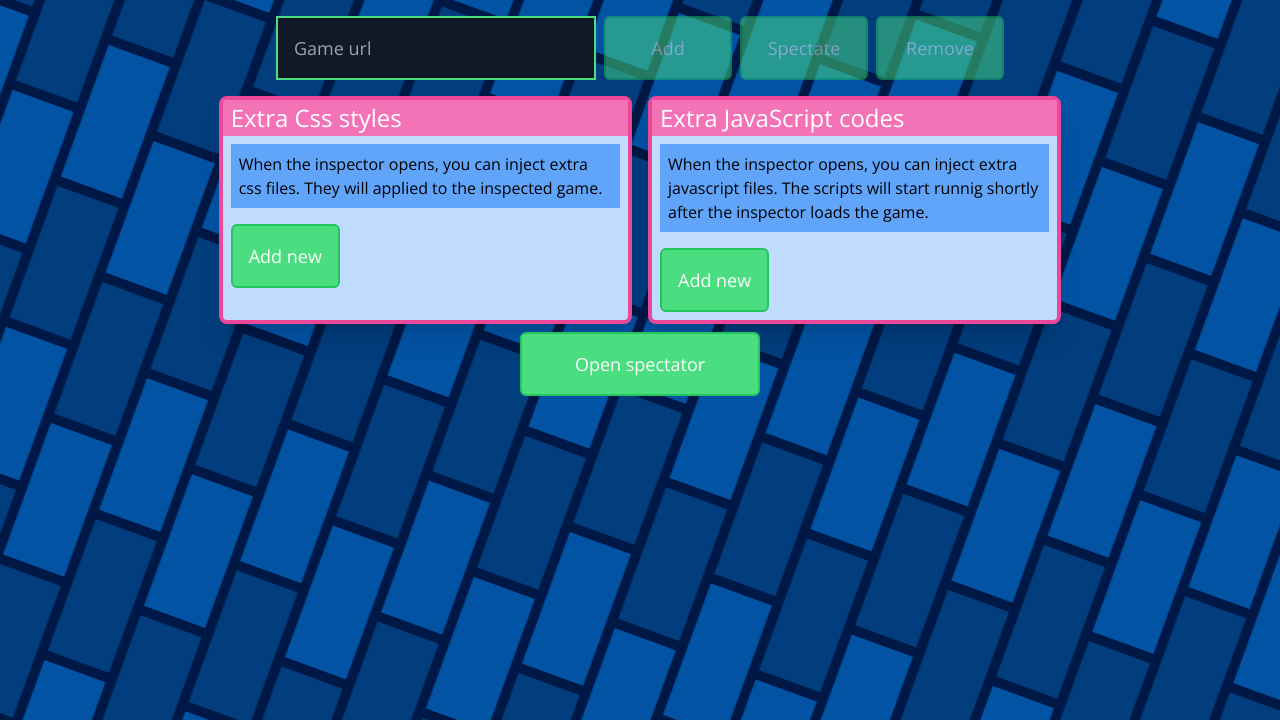
Test: Controls test › type url
The image size is (1280, 720).
Type "test" into the field with placeholder "Game url".
click(436, 48); type("test")  # box x1=276 y1=16 x2=596 y2=80
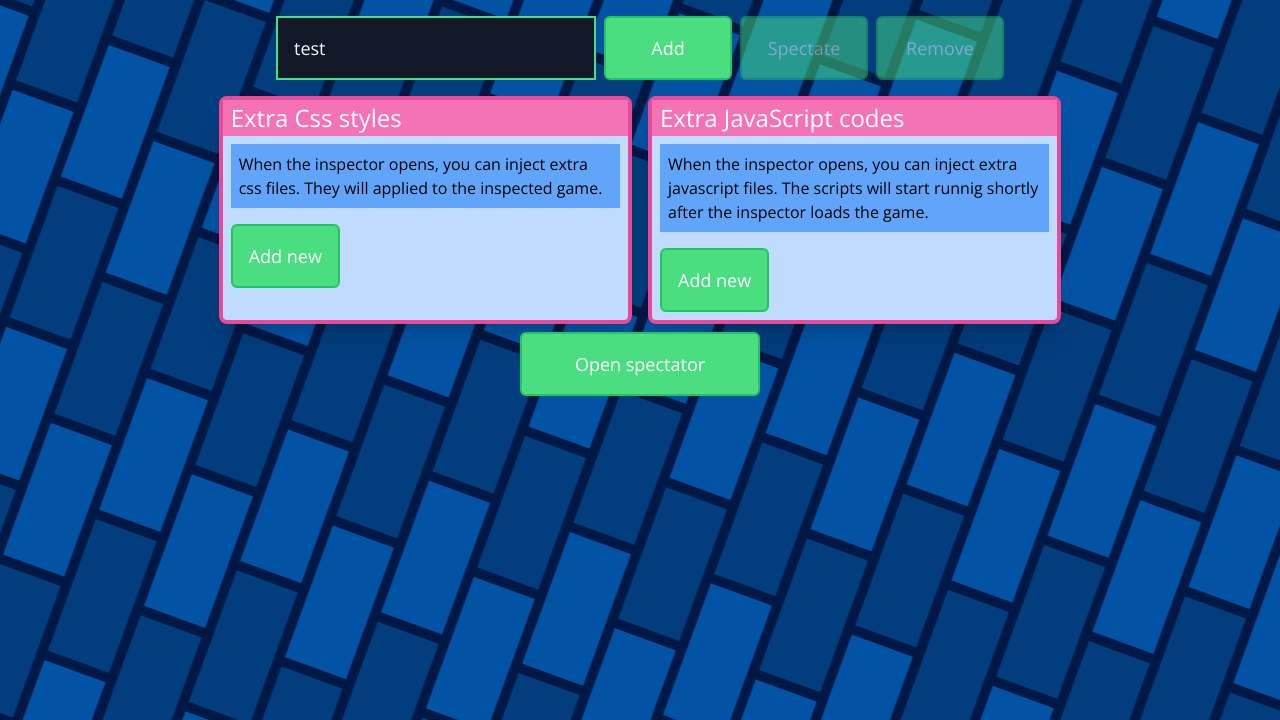
expect the button "Spectate" is disabled: met, box x1=740 y1=16 x2=868 y2=80
expect the button "Add" is enabled: met, box x1=604 y1=16 x2=732 y2=80
